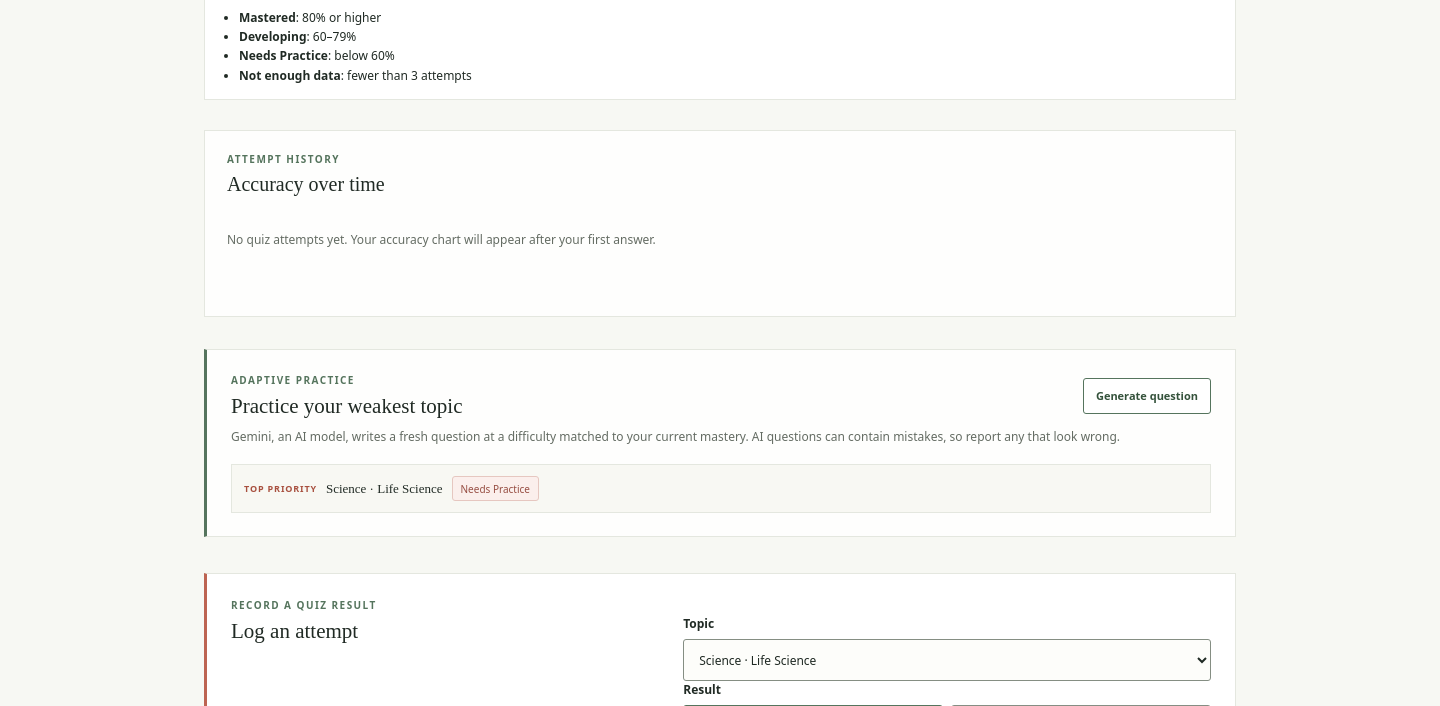
Test: BUG-09: non-JSON error responses show a friendly message › Generate question: a plain-text 504 shows the friendly message, not "Unexpected token"
The width and height of the screenshot is (1440, 706).
(page scrolled)
Click the button "Generate question" at (1147,396), box [1083,378,1211,414]
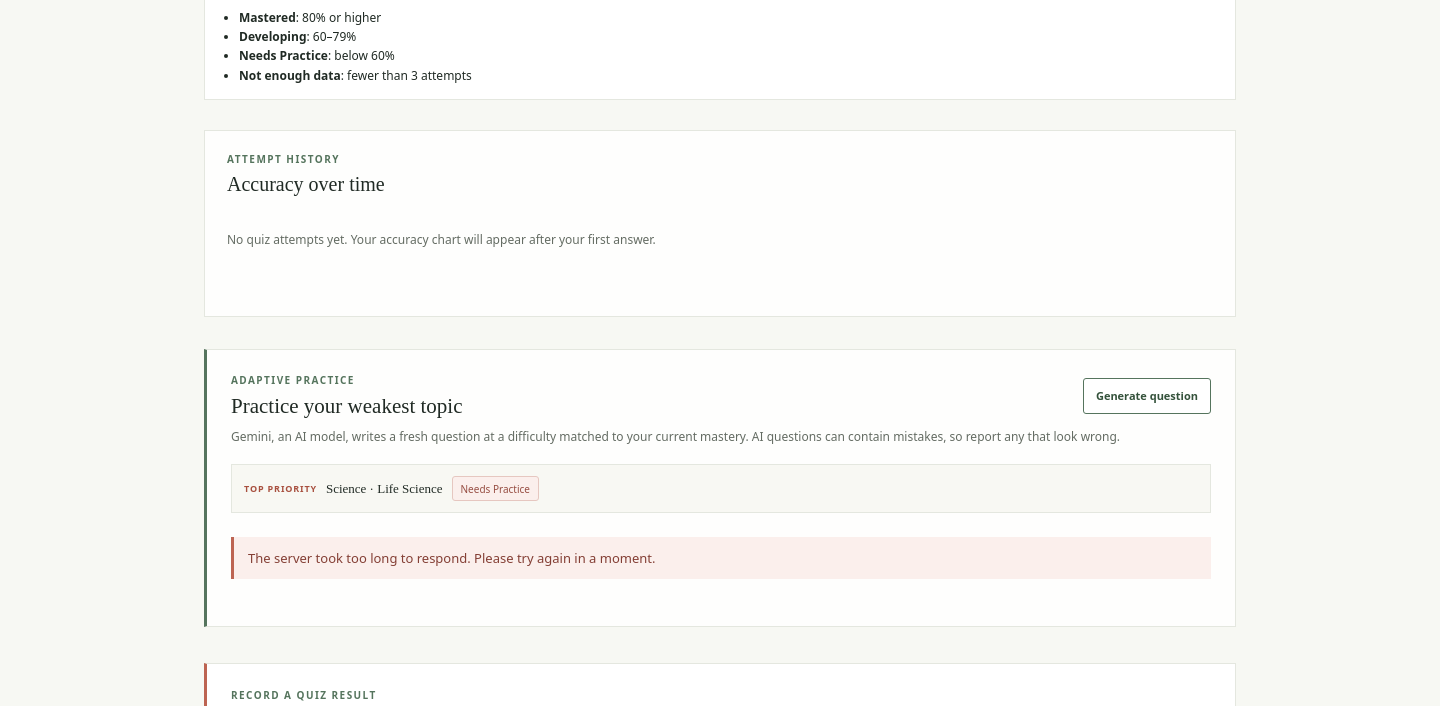
Expected: the text "The server took too long to respond. Please try again in a moment." is shown, [231,538,1211,580]
